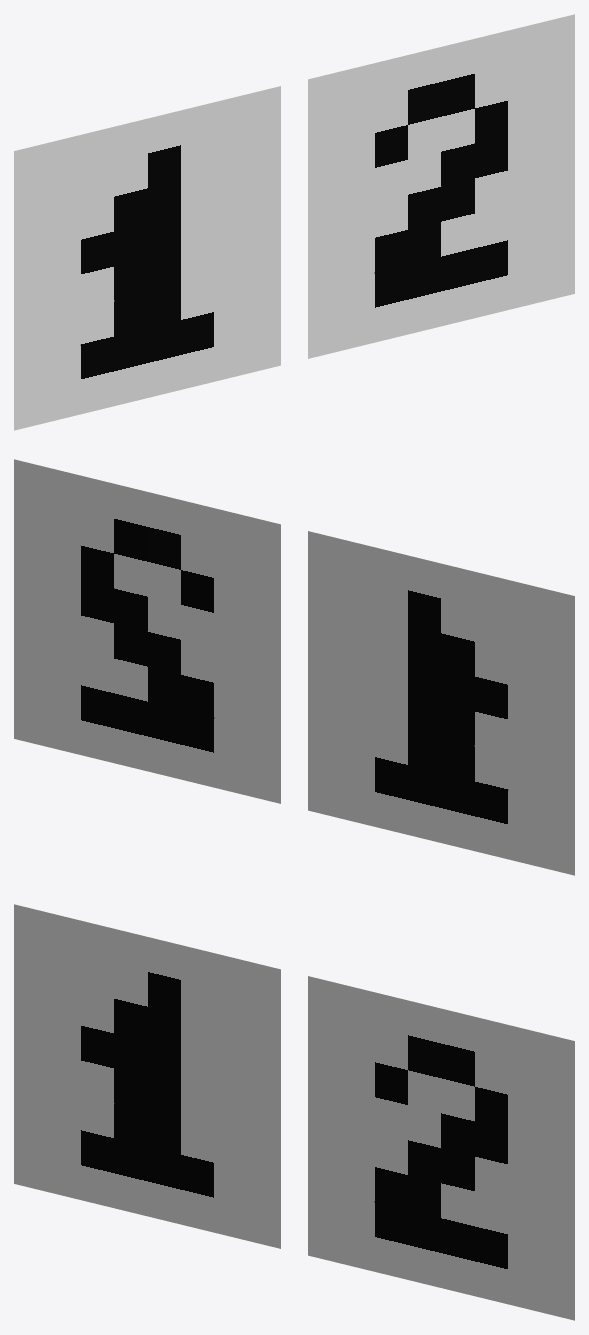
The model's file is two-textured-quads.glb.
3 views of the same model, one above another, from view 1: azimuth 30°, elevation 25°; view 2: azimuth 150°, elevation 25°; view 3: azimuth 330°, elevation 25° (orthographic).
Bounding box in the file's own units: 2.1 × 1 × 0.
Materials: 2 (2 with a texture image).
